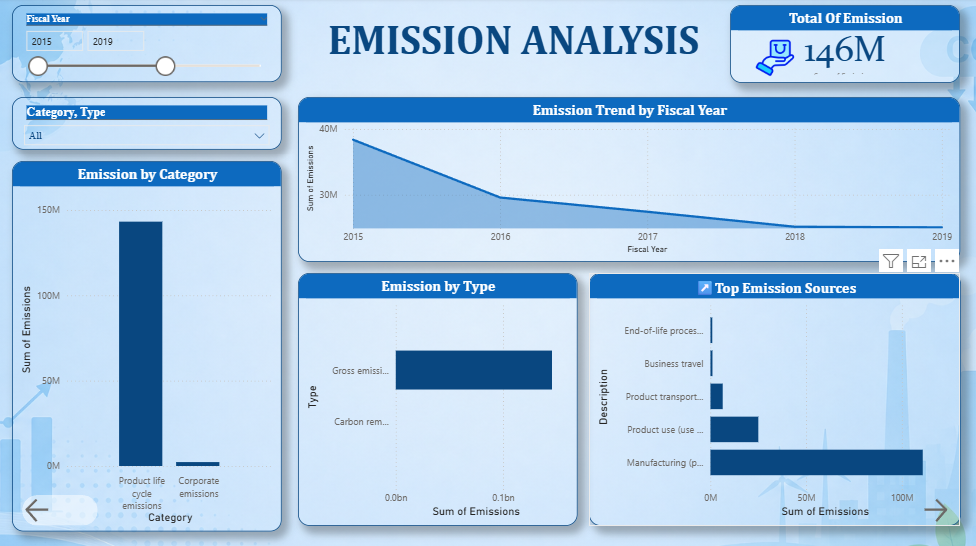

Layout of this report page (visuals, bound fields, positions):
{"tool":"powerbi","page":{"name":"Emission Analysis","canvas":[1280,720],"ordinal":1},"visuals":[{"type":"lineChart","title":"Emission Trend by Fiscal Year","fields":{"Category":["greenhouse_gas_emissions.Fiscal Year"],"Y":["Sum(greenhouse_gas_emissions.Emissions)"]},"box":[390.2,129.6,866.9,216],"z":0},{"type":"columnChart","title":"Emission by Category","fields":{"Category":["greenhouse_gas_emissions.Category"],"Y":["Sum(greenhouse_gas_emissions.Emissions)"]},"box":[15.8,213.1,352.8,485.3],"z":1000},{"type":"barChart","title":"Emission by Type","fields":{"Category":["greenhouse_gas_emissions.Type"],"Y":["Sum(greenhouse_gas_emissions.Emissions)"]},"box":[390.2,360,365.8,331.2],"z":2000},{"type":"barChart","title":"↗️Top Emission Sources","fields":{"Y":["Sum(greenhouse_gas_emissions.Emissions)"],"Category":["greenhouse_gas_emissions.Description"]},"box":[770.4,360,486.7,331.2],"z":3000},{"type":"textbox","box":[0,0,920.2,129.6],"z":4000},{"type":"slicer","fields":{"Values":["greenhouse_gas_emissions.Fiscal Year"]},"box":[15.7,9.2,353.5,100.8],"z":5000},{"type":"card","title":"Total Of Emission","fields":{"Values":["Sum(greenhouse_gas_emissions.Emissions)"]},"box":[955.6,9.2,301.1,102.1],"z":6000},{"type":"slicer","fields":{"Values":["greenhouse_gas_emissions.Category","greenhouse_gas_emissions.Type"]},"box":[15.8,129.6,352.8,69.1],"z":7000},{"type":"actionButton","box":[28.8,650.9,99.4,40.3],"z":8000},{"type":"actionButton","box":[1203.8,650.9,76.3,40.3],"z":9000},{"type":"image","box":[977.8,46.1,72,64.8],"z":10000}]}

Visuals, with their boxes in screenshot pixels (x1, y1, x2, y2), scaled from the page's 1280x720 canvas onto the 976x546 screenshot:
"Emission Trend by Fiscal Year" lineChart: crop(298, 98, 959, 262)
"Emission by Category" columnChart: crop(12, 162, 281, 530)
"Emission by Type" barChart: crop(298, 273, 576, 524)
"↗️Top Emission Sources" barChart: crop(587, 273, 959, 524)
textbox: crop(0, 0, 702, 98)
slicer - greenhouse_gas_emissions.Fiscal Year: crop(12, 7, 282, 83)
"Total Of Emission" card: crop(729, 7, 958, 84)
slicer - greenhouse_gas_emissions.Category x greenhouse_gas_emissions.Type: crop(12, 98, 281, 151)
actionButton: crop(22, 494, 98, 524)
actionButton: crop(918, 494, 975, 524)
image: crop(746, 35, 800, 84)
